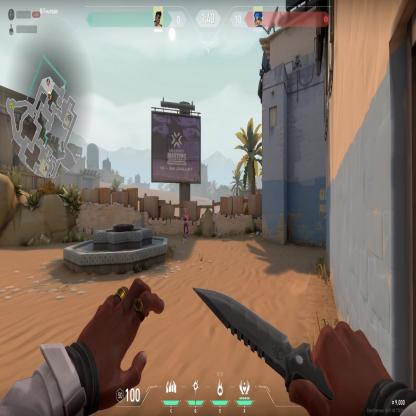enemy: (182, 206, 189, 244)
